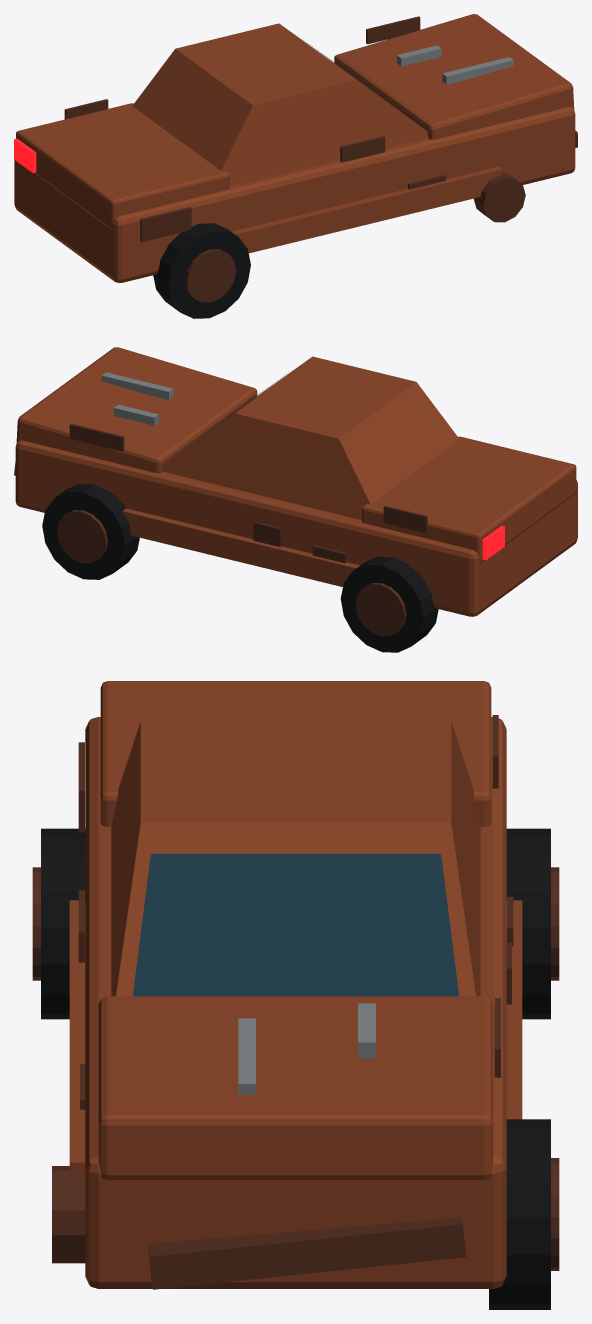
File: Stage1.glb
3 renders of one model, top to bottom at view 1: azimuth 30°, elevation 25°; view 2: azimuth 150°, elevation 25°; view 3: azimuth 270°, elevation 25°, orthographic. The views are drawn at different scales.
Parts seen in each view (by area): view 1: CabinShell, LowerBody, Hood, Trunk, RockerPanels, Tire_-1.55_-1.01, RustPatches, Rim_-1.55_-1.01, BareHub_1.55_-1.01, ExposedParts, RemainingTailLight; view 2: CabinShell, LowerBody, Hood, Trunk, RockerPanels, Tire_-1.55_1.01, Tire_1.55_1.01, RustPatches, Rim_1.55_1.01, Rim_-1.55_1.01, ExposedParts, RemainingTailLight; view 3: Hood, CabinShell, LowerBody, Windshield, Trunk, BentFrontBumper, Tire_1.55_1.01, RockerPanels, Tire_-1.55_1.01, Tire_-1.55_-1.01, RustPatches, BareHub_1.55_-1.01 (+4 smaller).
Part boxes in pixels (x1,y1,x2,y2): CabinShell: (132,23,428,186); LowerBody: (14,107,575,282); Hood: (334,14,574,139); Trunk: (16,103,229,229); RockerPanels: (231,166,502,253); Tire_-1.55_-1.01: (153,223,250,318); RustPatches: (64,16,445,241); Rim_-1.55_-1.01: (185,249,236,302); BareHub_1.55_-1.01: (474,172,525,222); ExposedParts: (397,45,513,84); RemainingTailLight: (14,138,36,172); CabinShell: (163,356,459,519); LowerBody: (15,440,577,616); Hood: (16,347,257,473); Trunk: (362,436,576,563); RockerPanels: (122,508,359,586); Tire_-1.55_1.01: (340,557,438,652); Tire_1.55_1.01: (42,484,139,579); RustPatches: (69,423,427,563); Rim_1.55_1.01: (57,510,107,563); Rim_-1.55_1.01: (355,583,406,636); ExposedParts: (101,372,173,425); RemainingTailLight: (482,525,504,560); Hood: (98,996,493,1179); CabinShell: (111,721,480,996); LowerBody: (85,717,506,1288); Windshield: (132,853,459,996); Trunk: (100,681,491,826); BentFrontBumper: (148,1217,465,1289); Tire_1.55_1.01: (489,1119,550,1309); RockerPanels: (69,900,522,1173); Tire_-1.55_1.01: (506,828,550,1019); Tire_-1.55_-1.01: (41,828,85,1019); RustPatches: (78,715,513,1109); BareHub_1.55_-1.01: (52,1166,85,1263).
Bounding box in the file's own units: 5.02 × 1.77 × 2.37.
